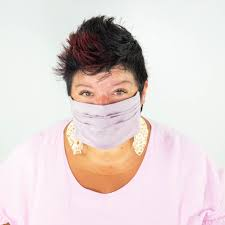cloth_mask: (67, 94, 145, 151)
